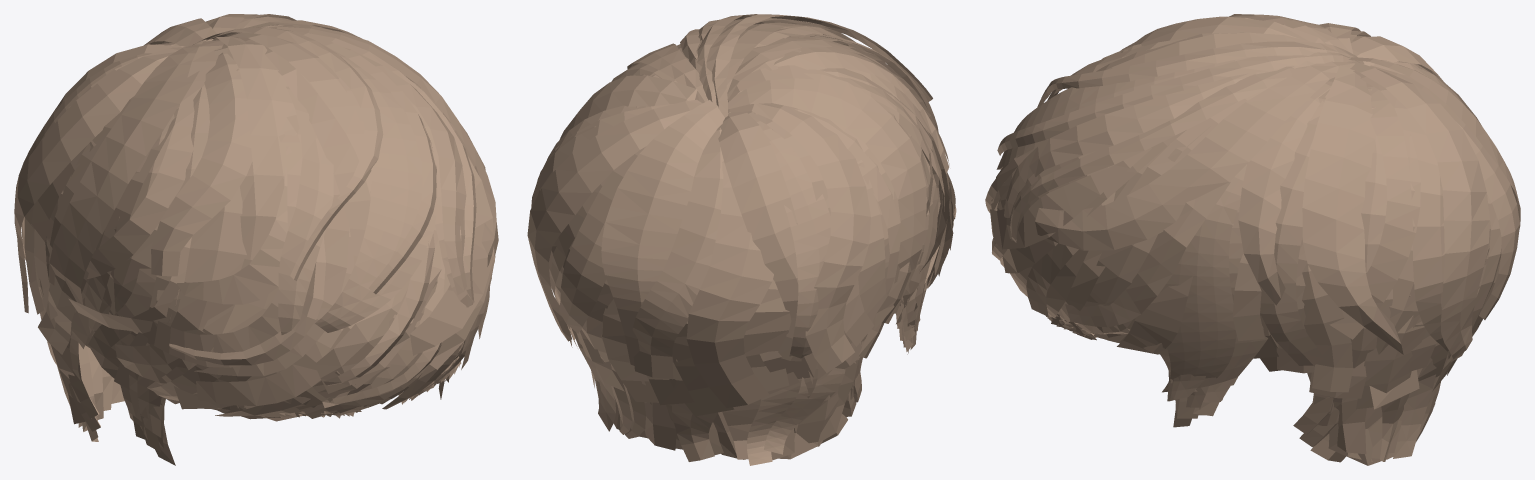
Rendered from male_hair_10_lod0.glb.
3 views of the same model, side by side, from view 1: azimuth 30°, elevation 25°; view 2: azimuth 150°, elevation 25°; view 3: azimuth 270°, elevation 25° (orthographic). The views are drawn at different scales.
Visible parts, largest first — view 1: hair_10; view 2: hair_10; view 3: hair_10.
Boxes of the visible parts, x1=… form: hair_10: x1=14, y1=14, x2=498, y2=465; hair_10: x1=527, y1=14, x2=956, y2=465; hair_10: x1=985, y1=14, x2=1520, y2=465.
Size of the model in its own units: 0.1807 by 0.178 by 0.2237.
